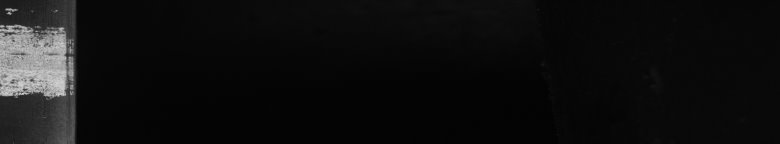kb: (4, 4, 64, 104)
